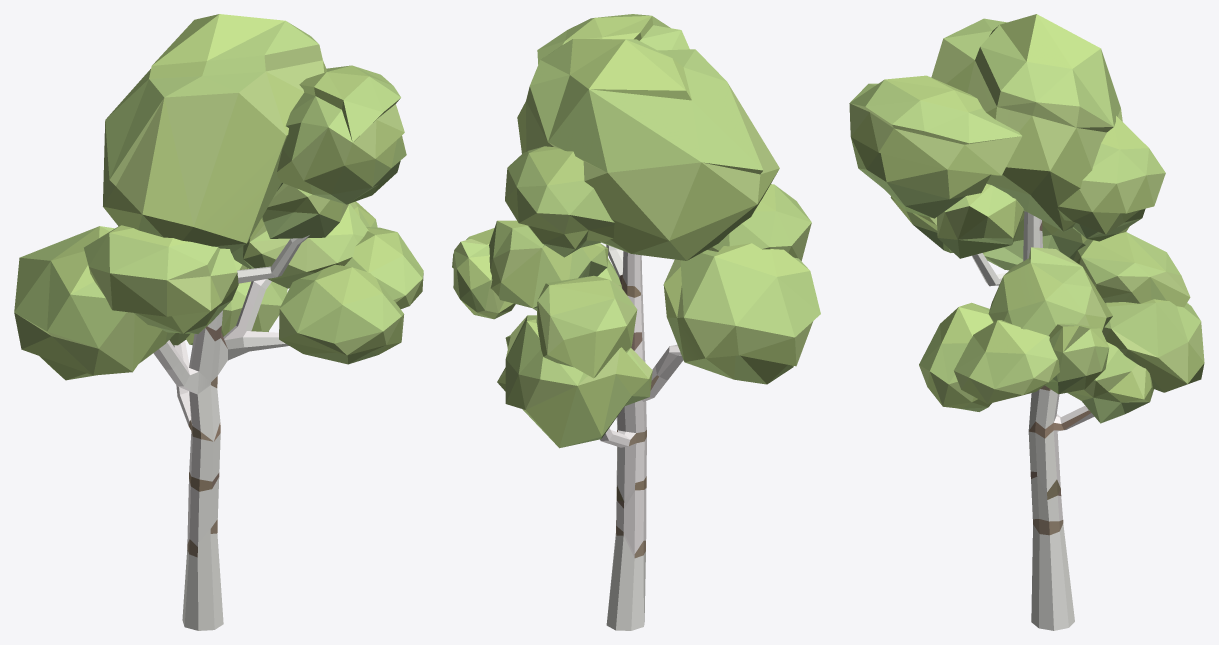
The model's file is birch_tree_05.glb.
The picture shows the model from 3 angles, left to right: view 1: azimuth 30°, elevation 25°; view 2: azimuth 150°, elevation 25°; view 3: azimuth 270°, elevation 25°; orthographic projection. The views are drawn at different scales.
Parts seen in each view (by area): view 1: PP_Birch_Tree_05.002; view 2: PP_Birch_Tree_05.002; view 3: PP_Birch_Tree_05.002.
Part boxes in pixels (bbox=[...]): PP_Birch_Tree_05.002: bbox=[14, 14, 423, 630]; PP_Birch_Tree_05.002: bbox=[452, 14, 820, 630]; PP_Birch_Tree_05.002: bbox=[849, 14, 1204, 630].
Bounding box in the file's own units: 4.22 × 6.52 × 3.43.
